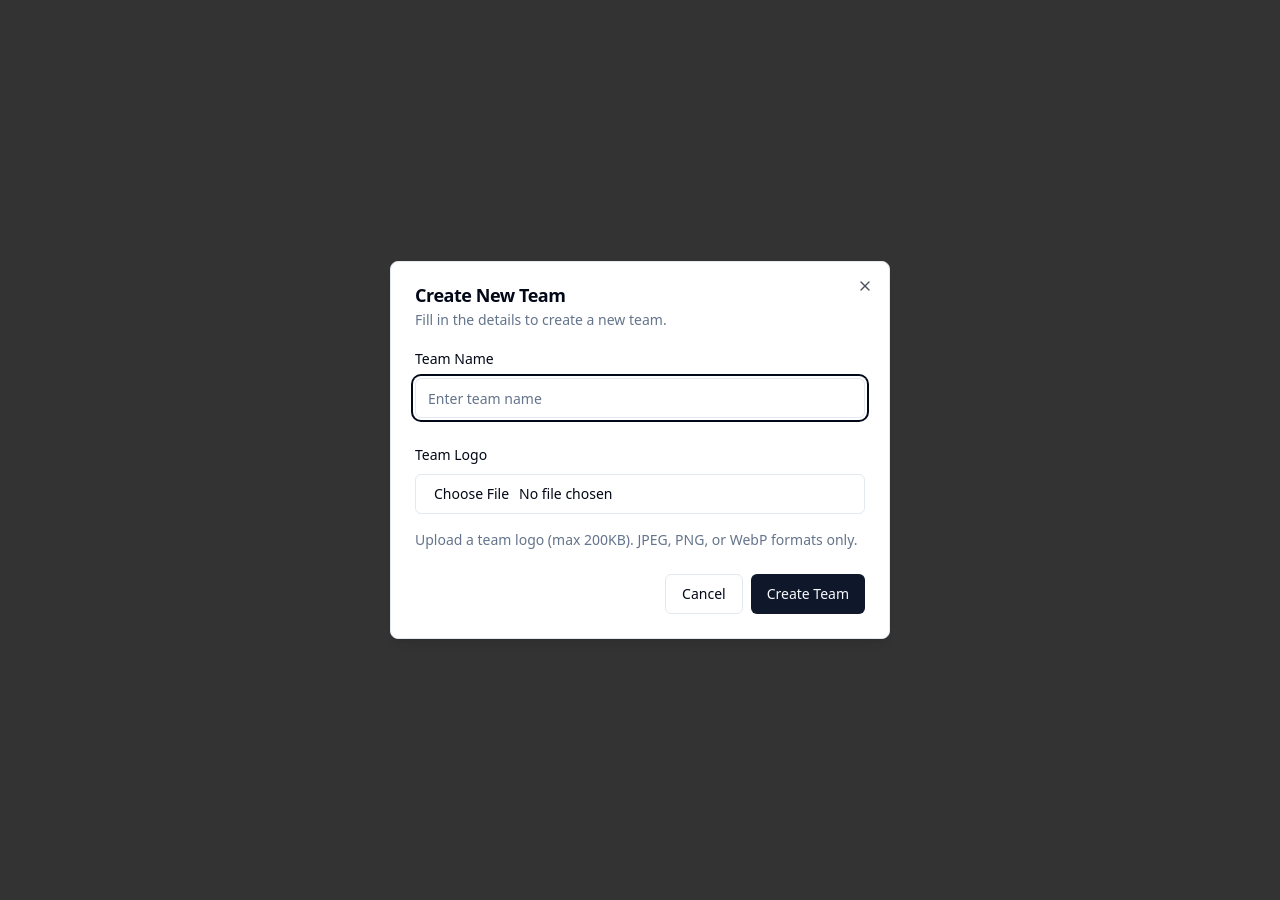
Scenario: TeamForm › should validate required fields
What coordinates should you click on to do the following:
click the button "Create Team"
I would click on:
 (808, 594)
Its box is x1=751 y1=574 x2=865 y2=614.
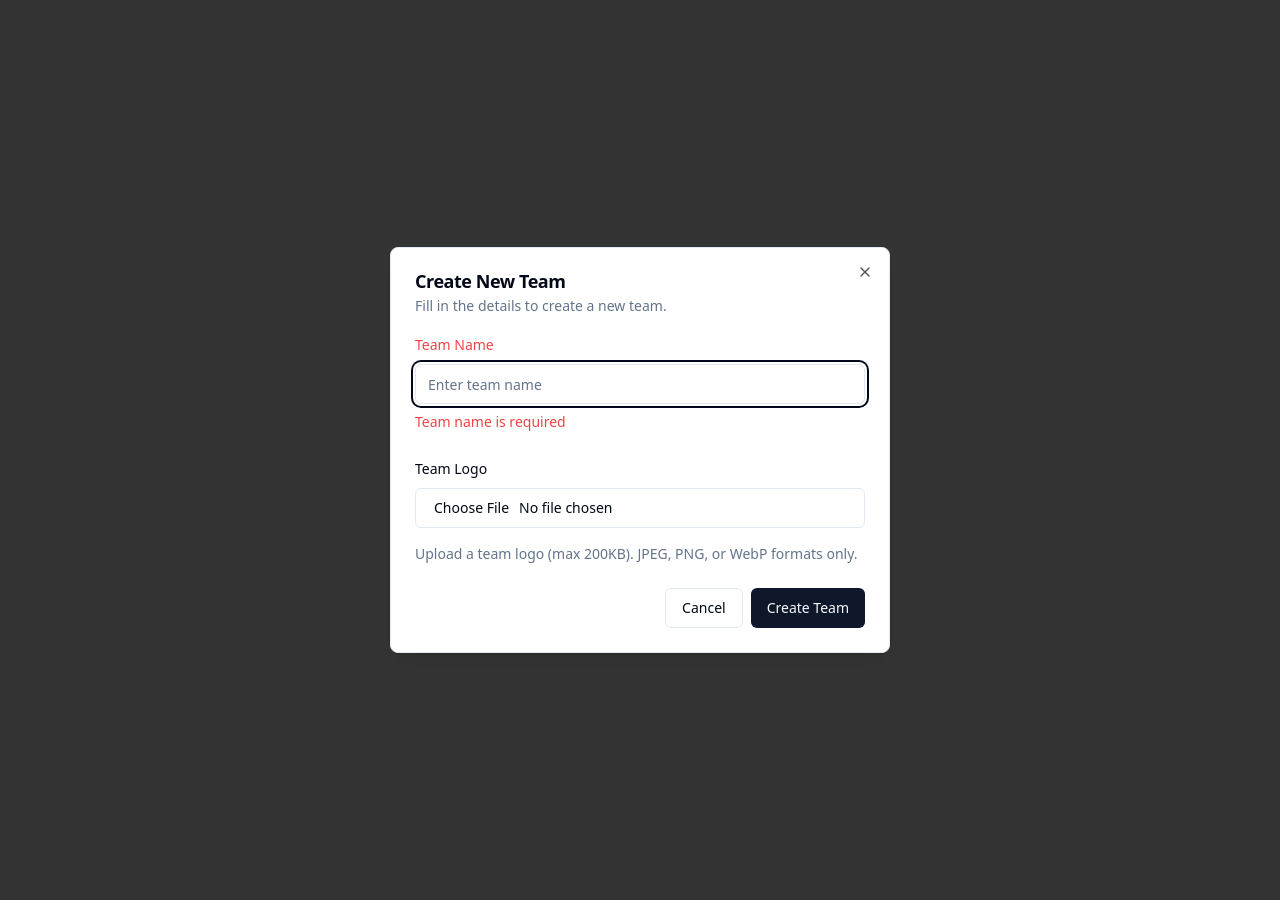
Check: the text "Team name is required" is shown, box x1=415 y1=412 x2=566 y2=431
